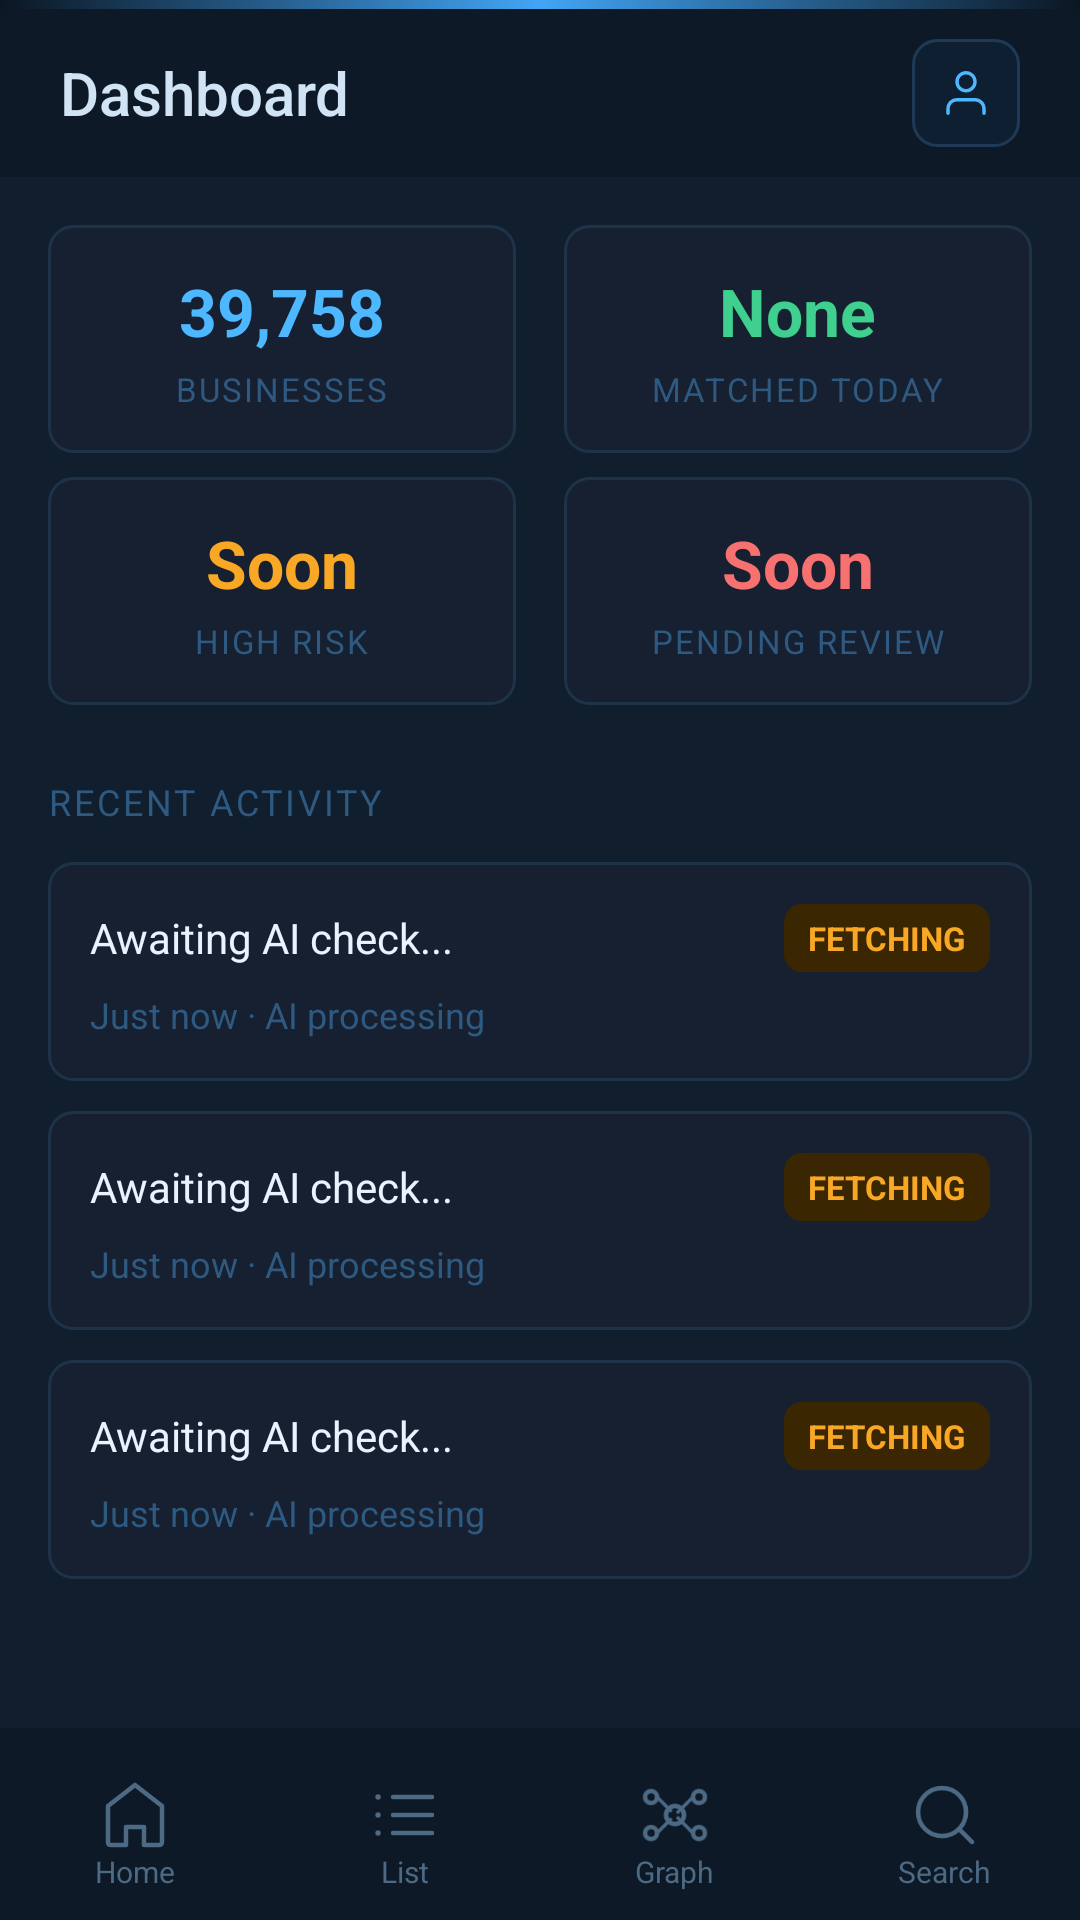

Point at icon controls on the screen. Image size 1080×1920, points as (x,y).
user: (966,93)
